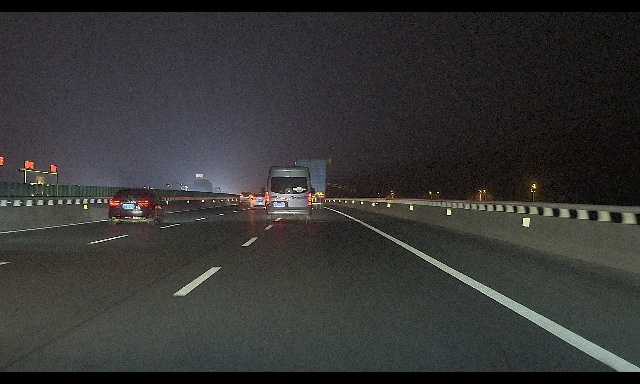car: (261, 165, 315, 224), (107, 189, 164, 226), (249, 192, 267, 209), (239, 192, 253, 206)
truck: (294, 158, 326, 210), (194, 179, 212, 198), (166, 181, 189, 195), (211, 187, 221, 199)
